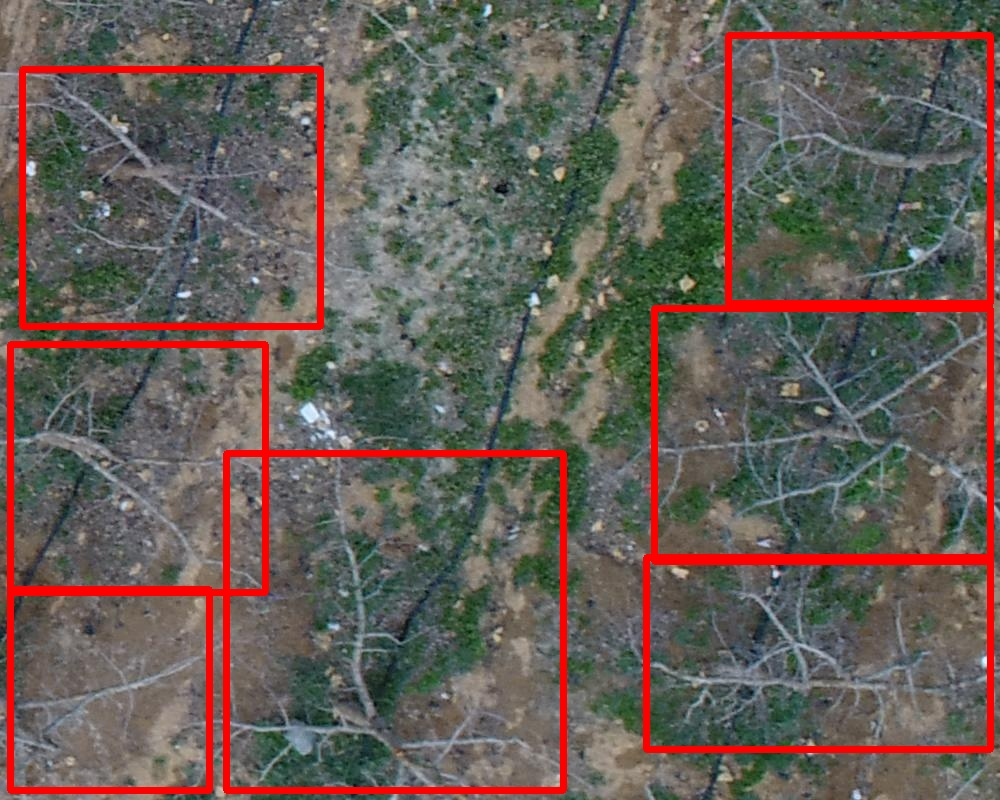apple: (226, 453, 563, 790), (654, 308, 990, 561), (22, 69, 320, 326), (728, 35, 990, 303), (646, 557, 990, 749), (10, 344, 265, 592), (10, 589, 209, 790)
